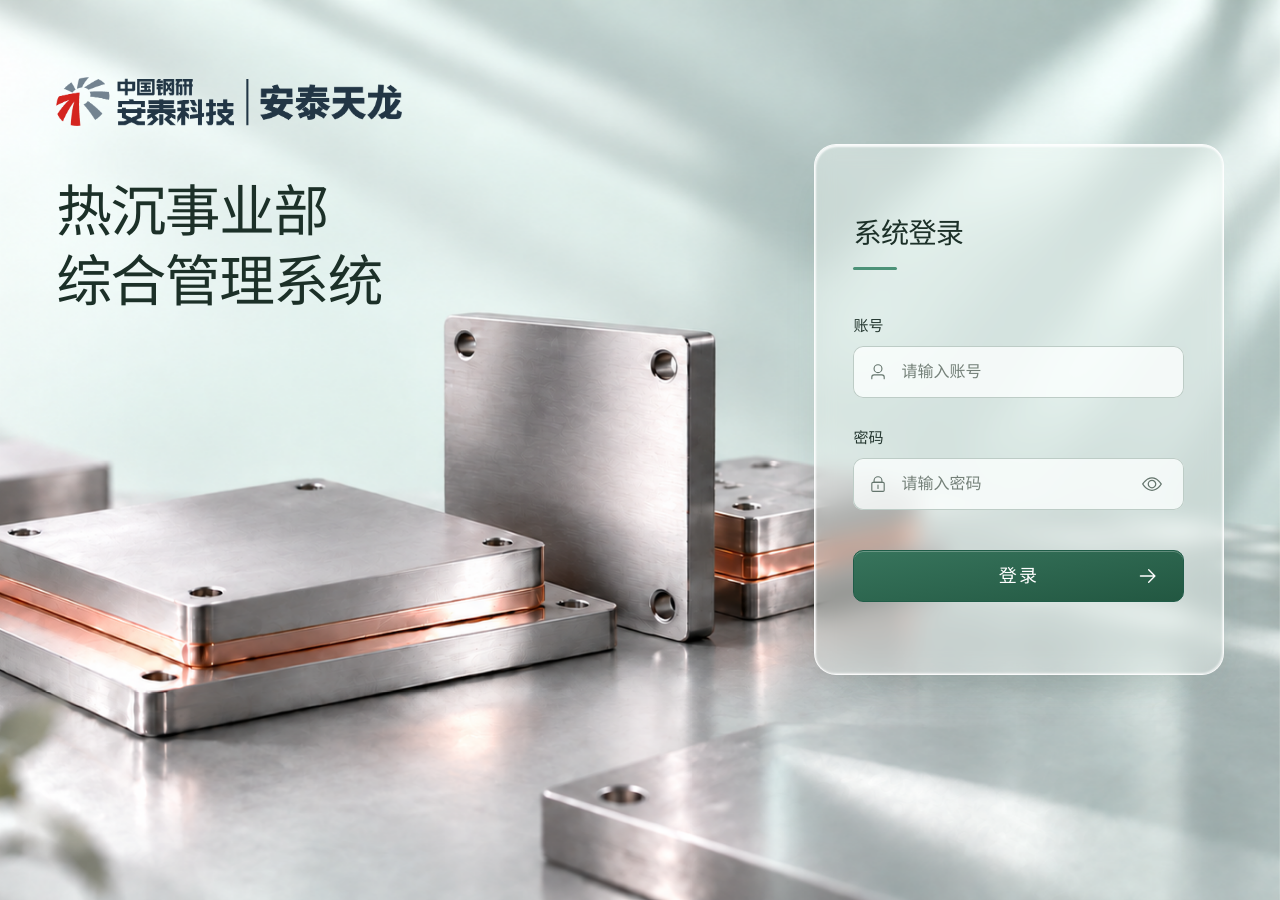
Test: login form › toggles password visibility without changing the entered value
The image size is (1280, 900).
Type "  operator  " into the field with id "login-username".
click(1035, 372); type("  operator  ")  # box left=902, top=353, right=1168, bottom=391
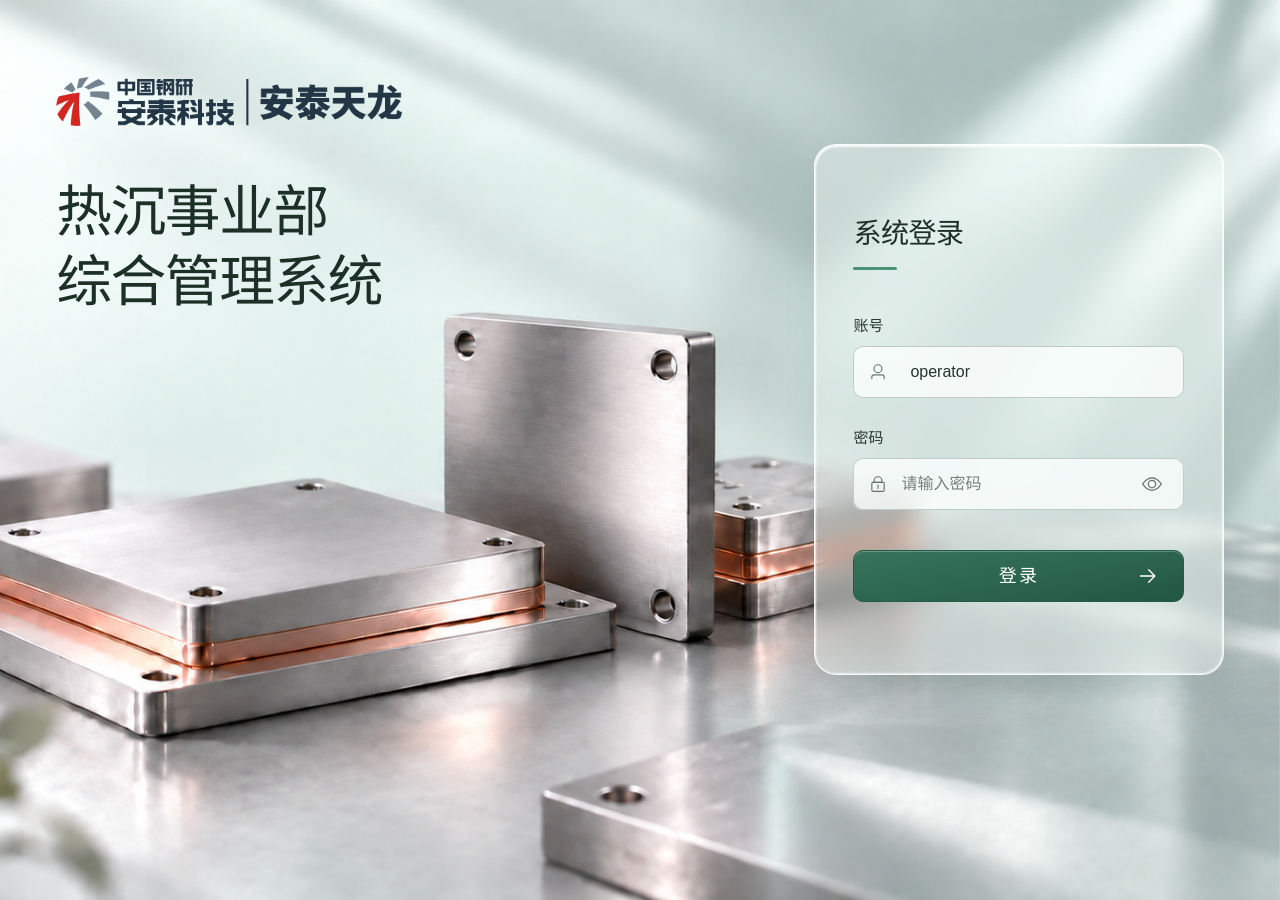
Type "test-password" into the password field with id "login-password".
click(1015, 484); type("test-password")  # box left=902, top=465, right=1128, bottom=503
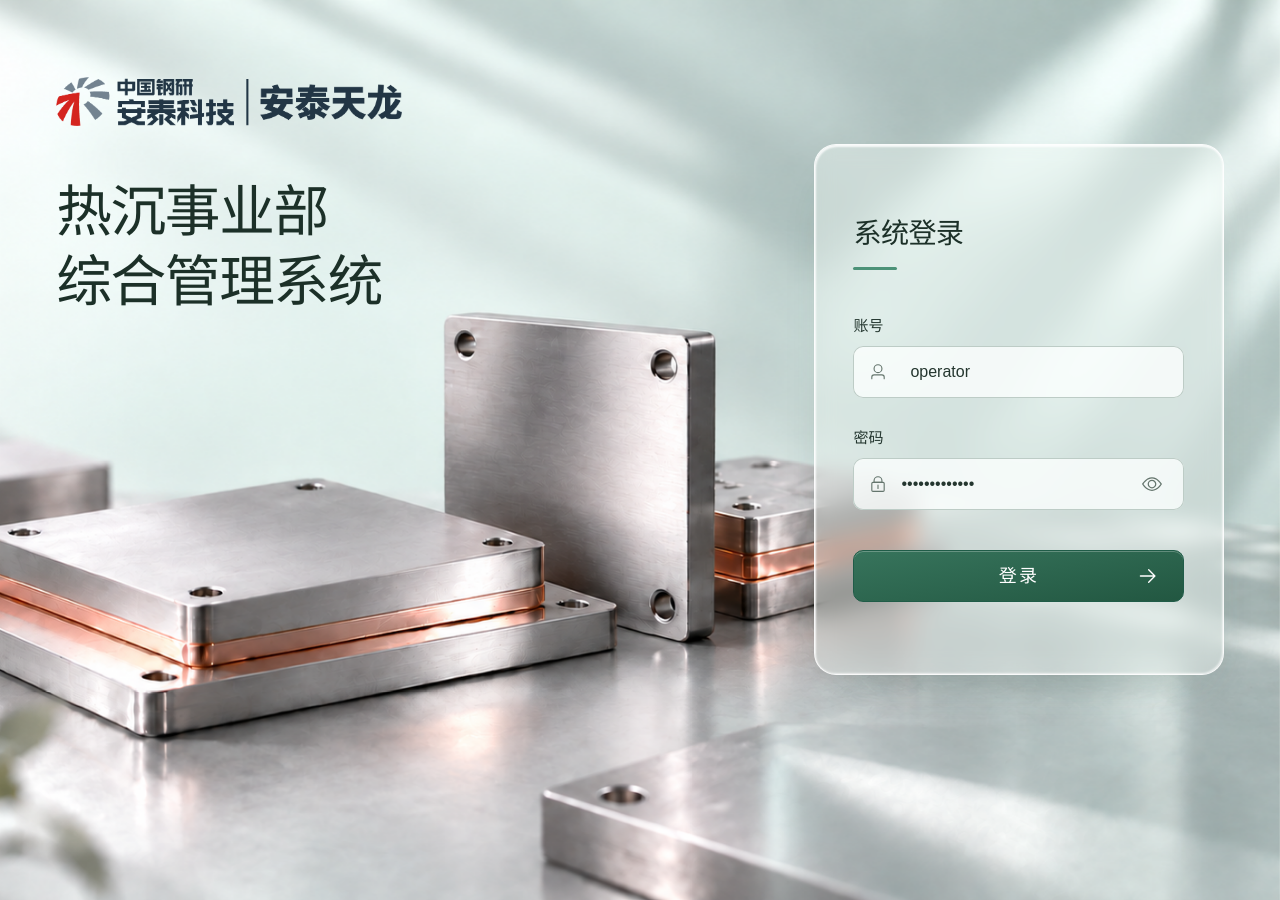
Click the button named "显示密码".
click(1152, 484)  # box left=1136, top=468, right=1168, bottom=500
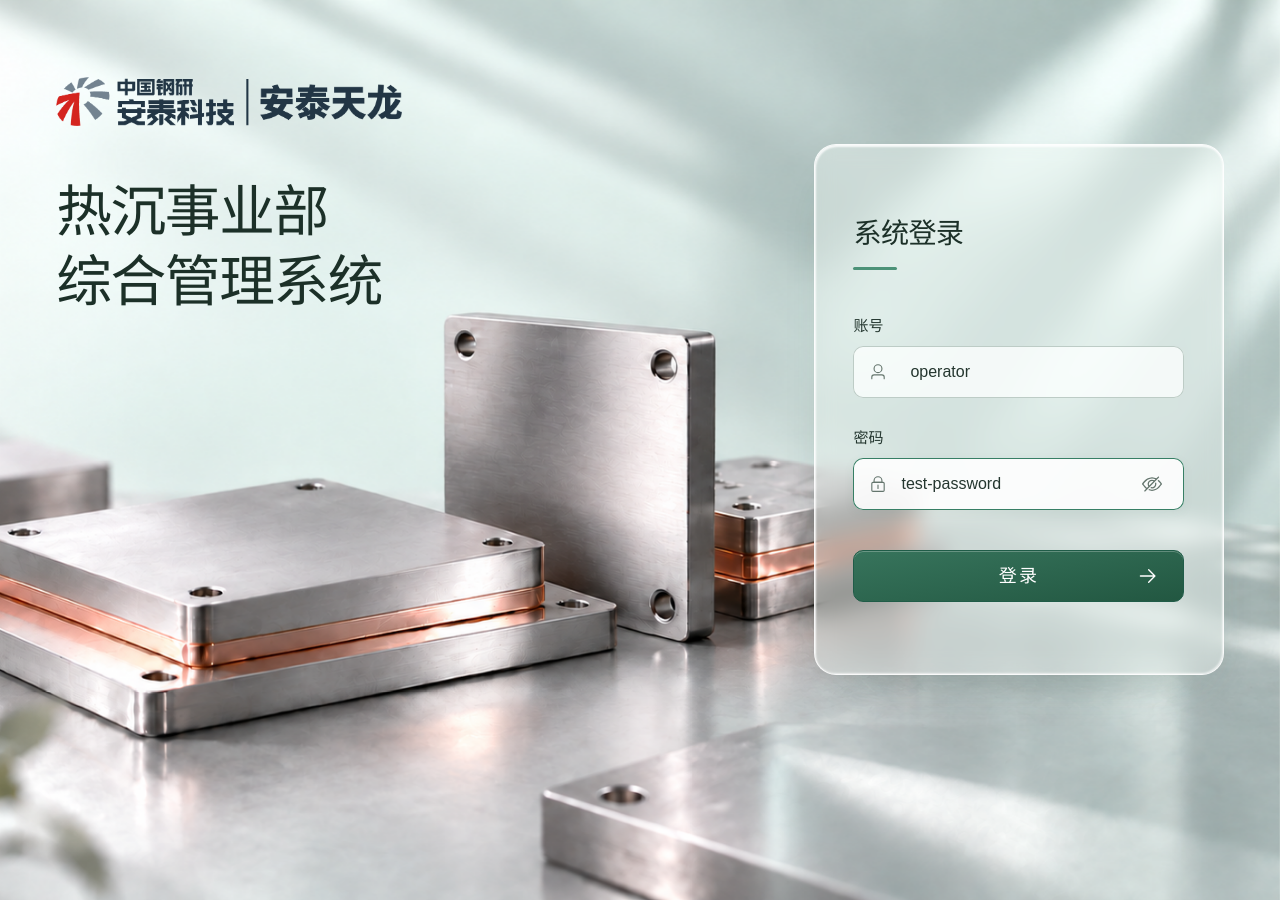
Expected: the field with id "login-password" shows its text, left=902, top=465, right=1128, bottom=503
Click the button named "隐藏密码".
click(1152, 484)  # box left=1136, top=468, right=1168, bottom=500
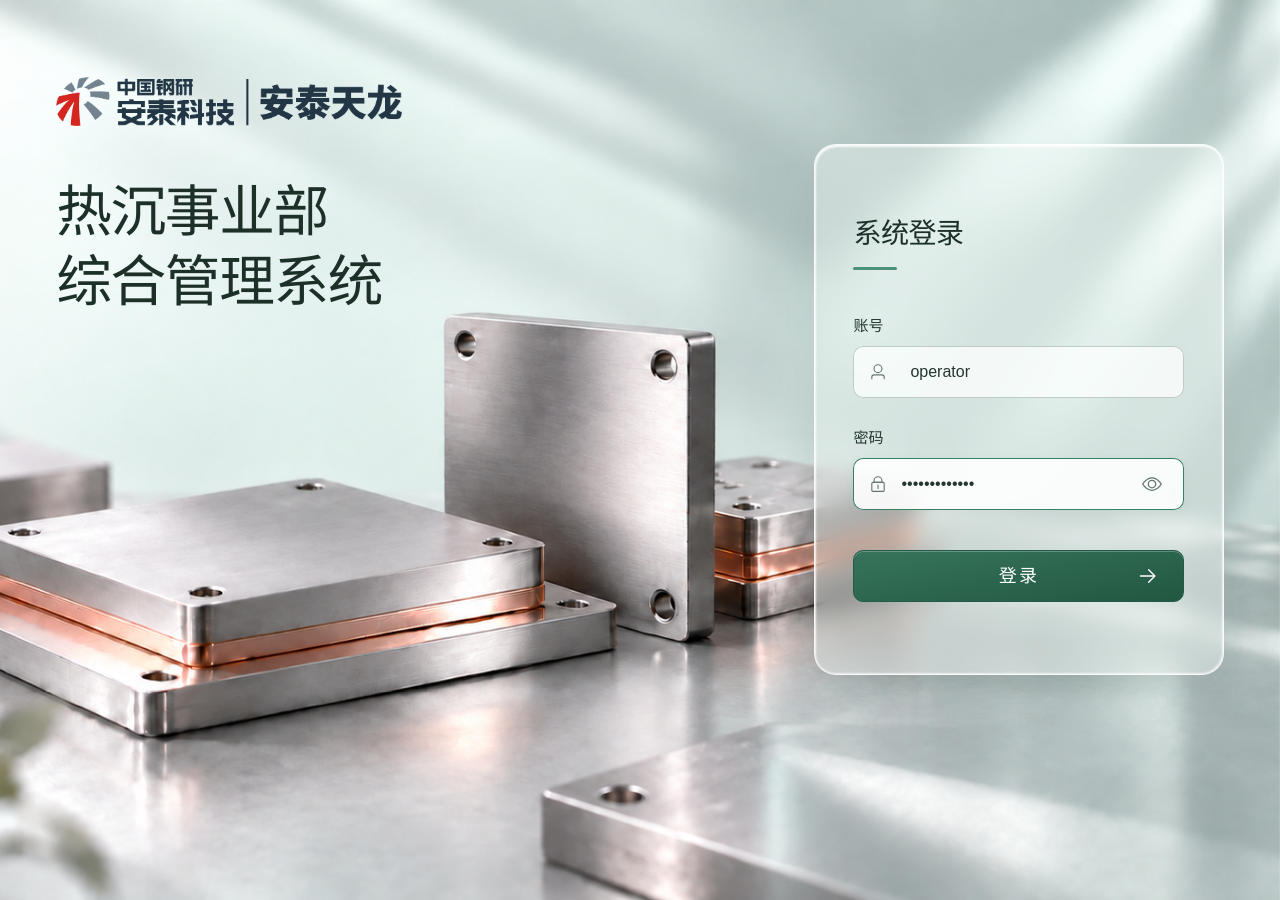
Expected: the password field with id "login-password" hides its text, left=902, top=465, right=1128, bottom=503
